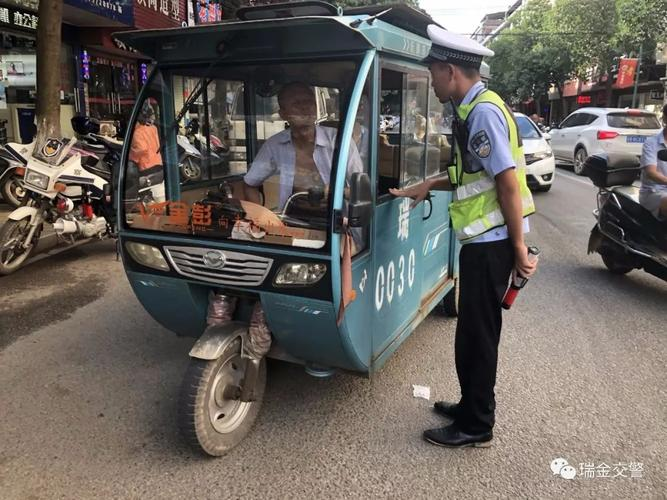driver: (241, 86, 365, 260)
only_driver: (92, 17, 498, 457)
